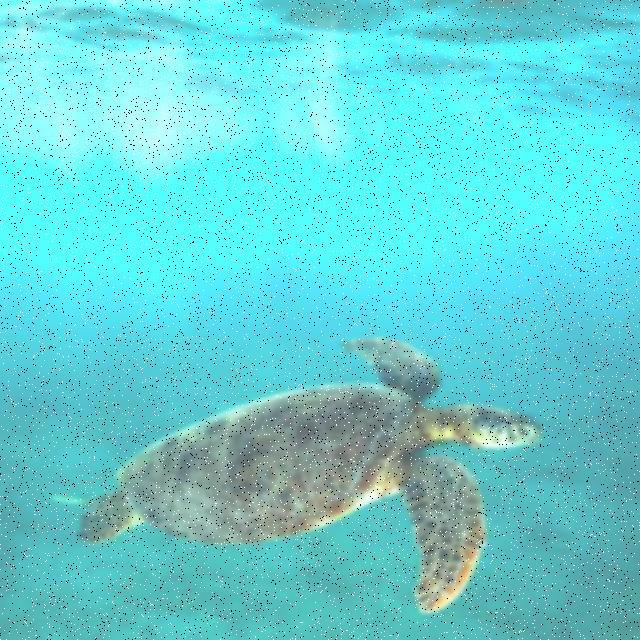tortoise: (63, 341, 539, 603)
